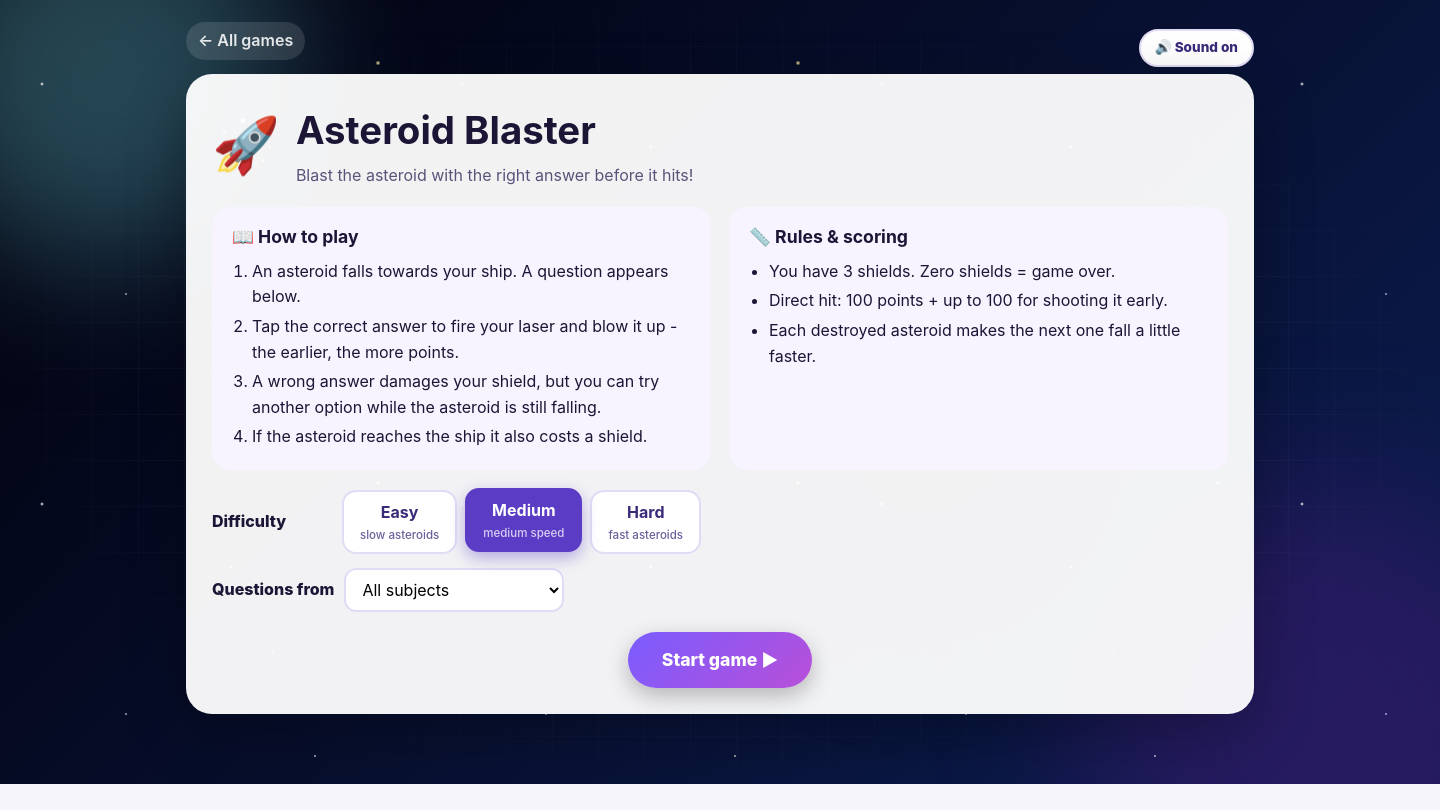
quiz games › Asteroid Blaster: the right answer blasts the asteroid
Click the radio button labelled "Easy slow asteroids".
click(400, 522)  # box [342, 490, 457, 554]
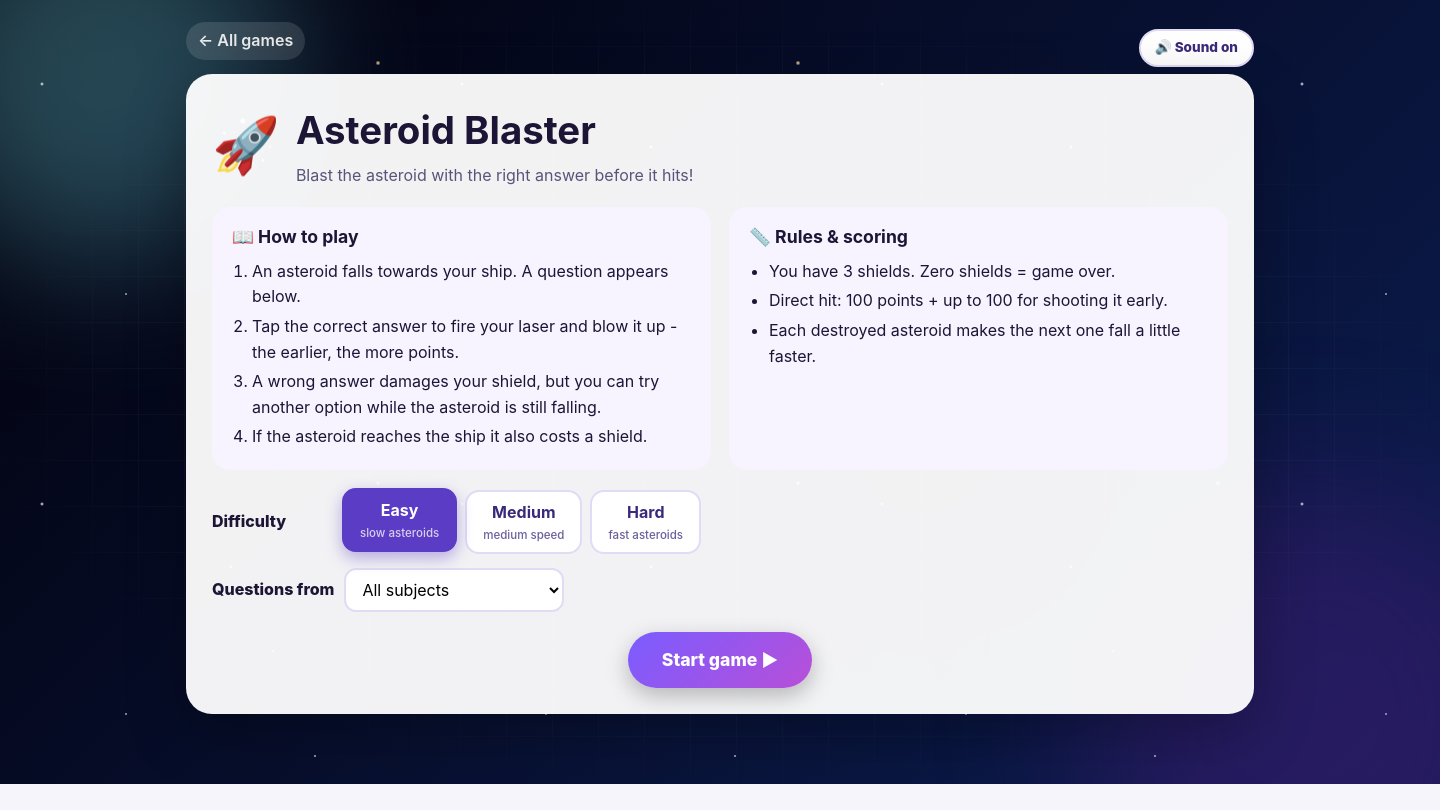
Click the button "Start game ▶".
click(720, 660)  # box [628, 632, 812, 688]
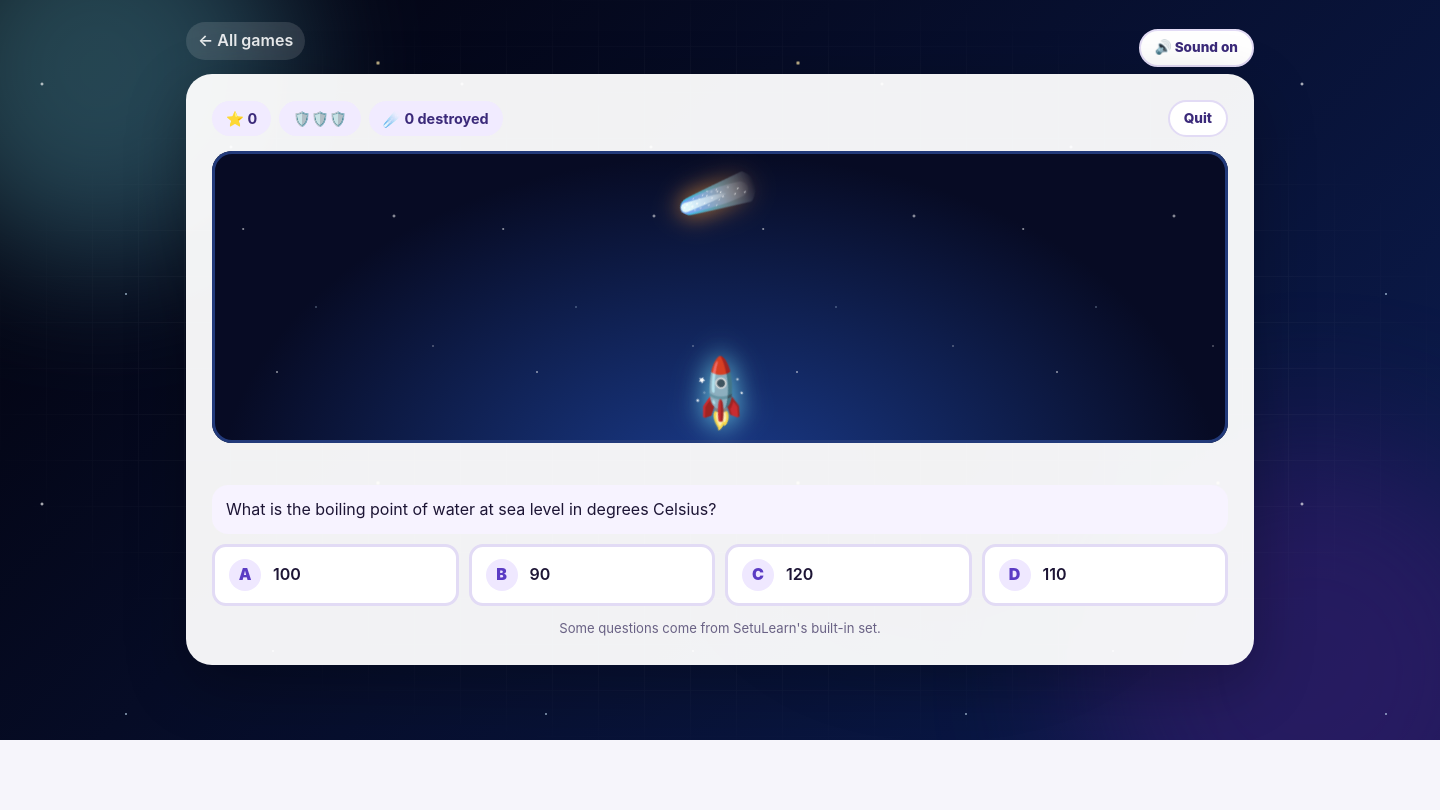
Click the button "A 100".
click(335, 575)  # box [212, 544, 458, 606]
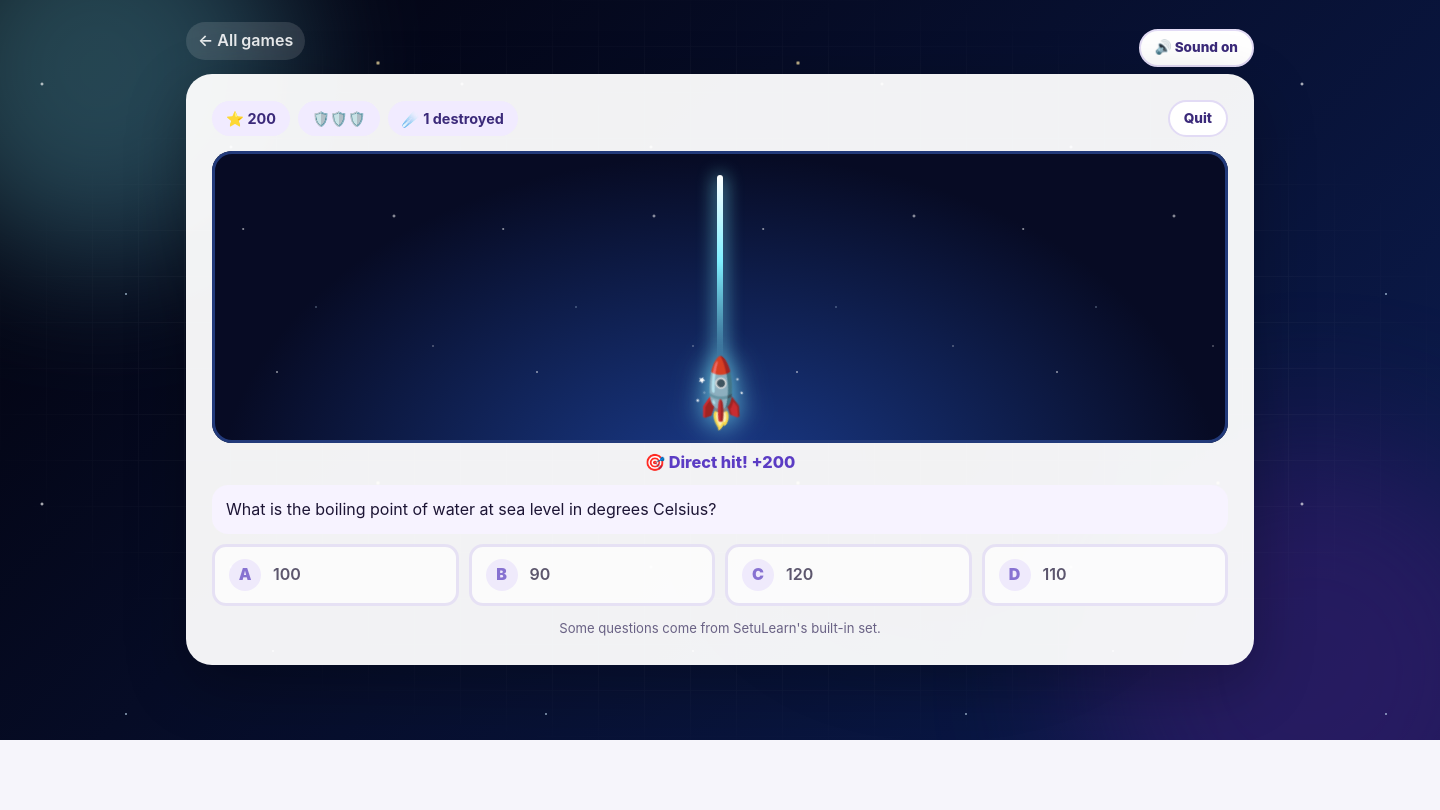
Now the text "🎯 Direct hit! +200" is shown, box [645, 452, 795, 472]
Now the text "☄️ 1 destroyed" is shown, box [388, 101, 518, 136]
